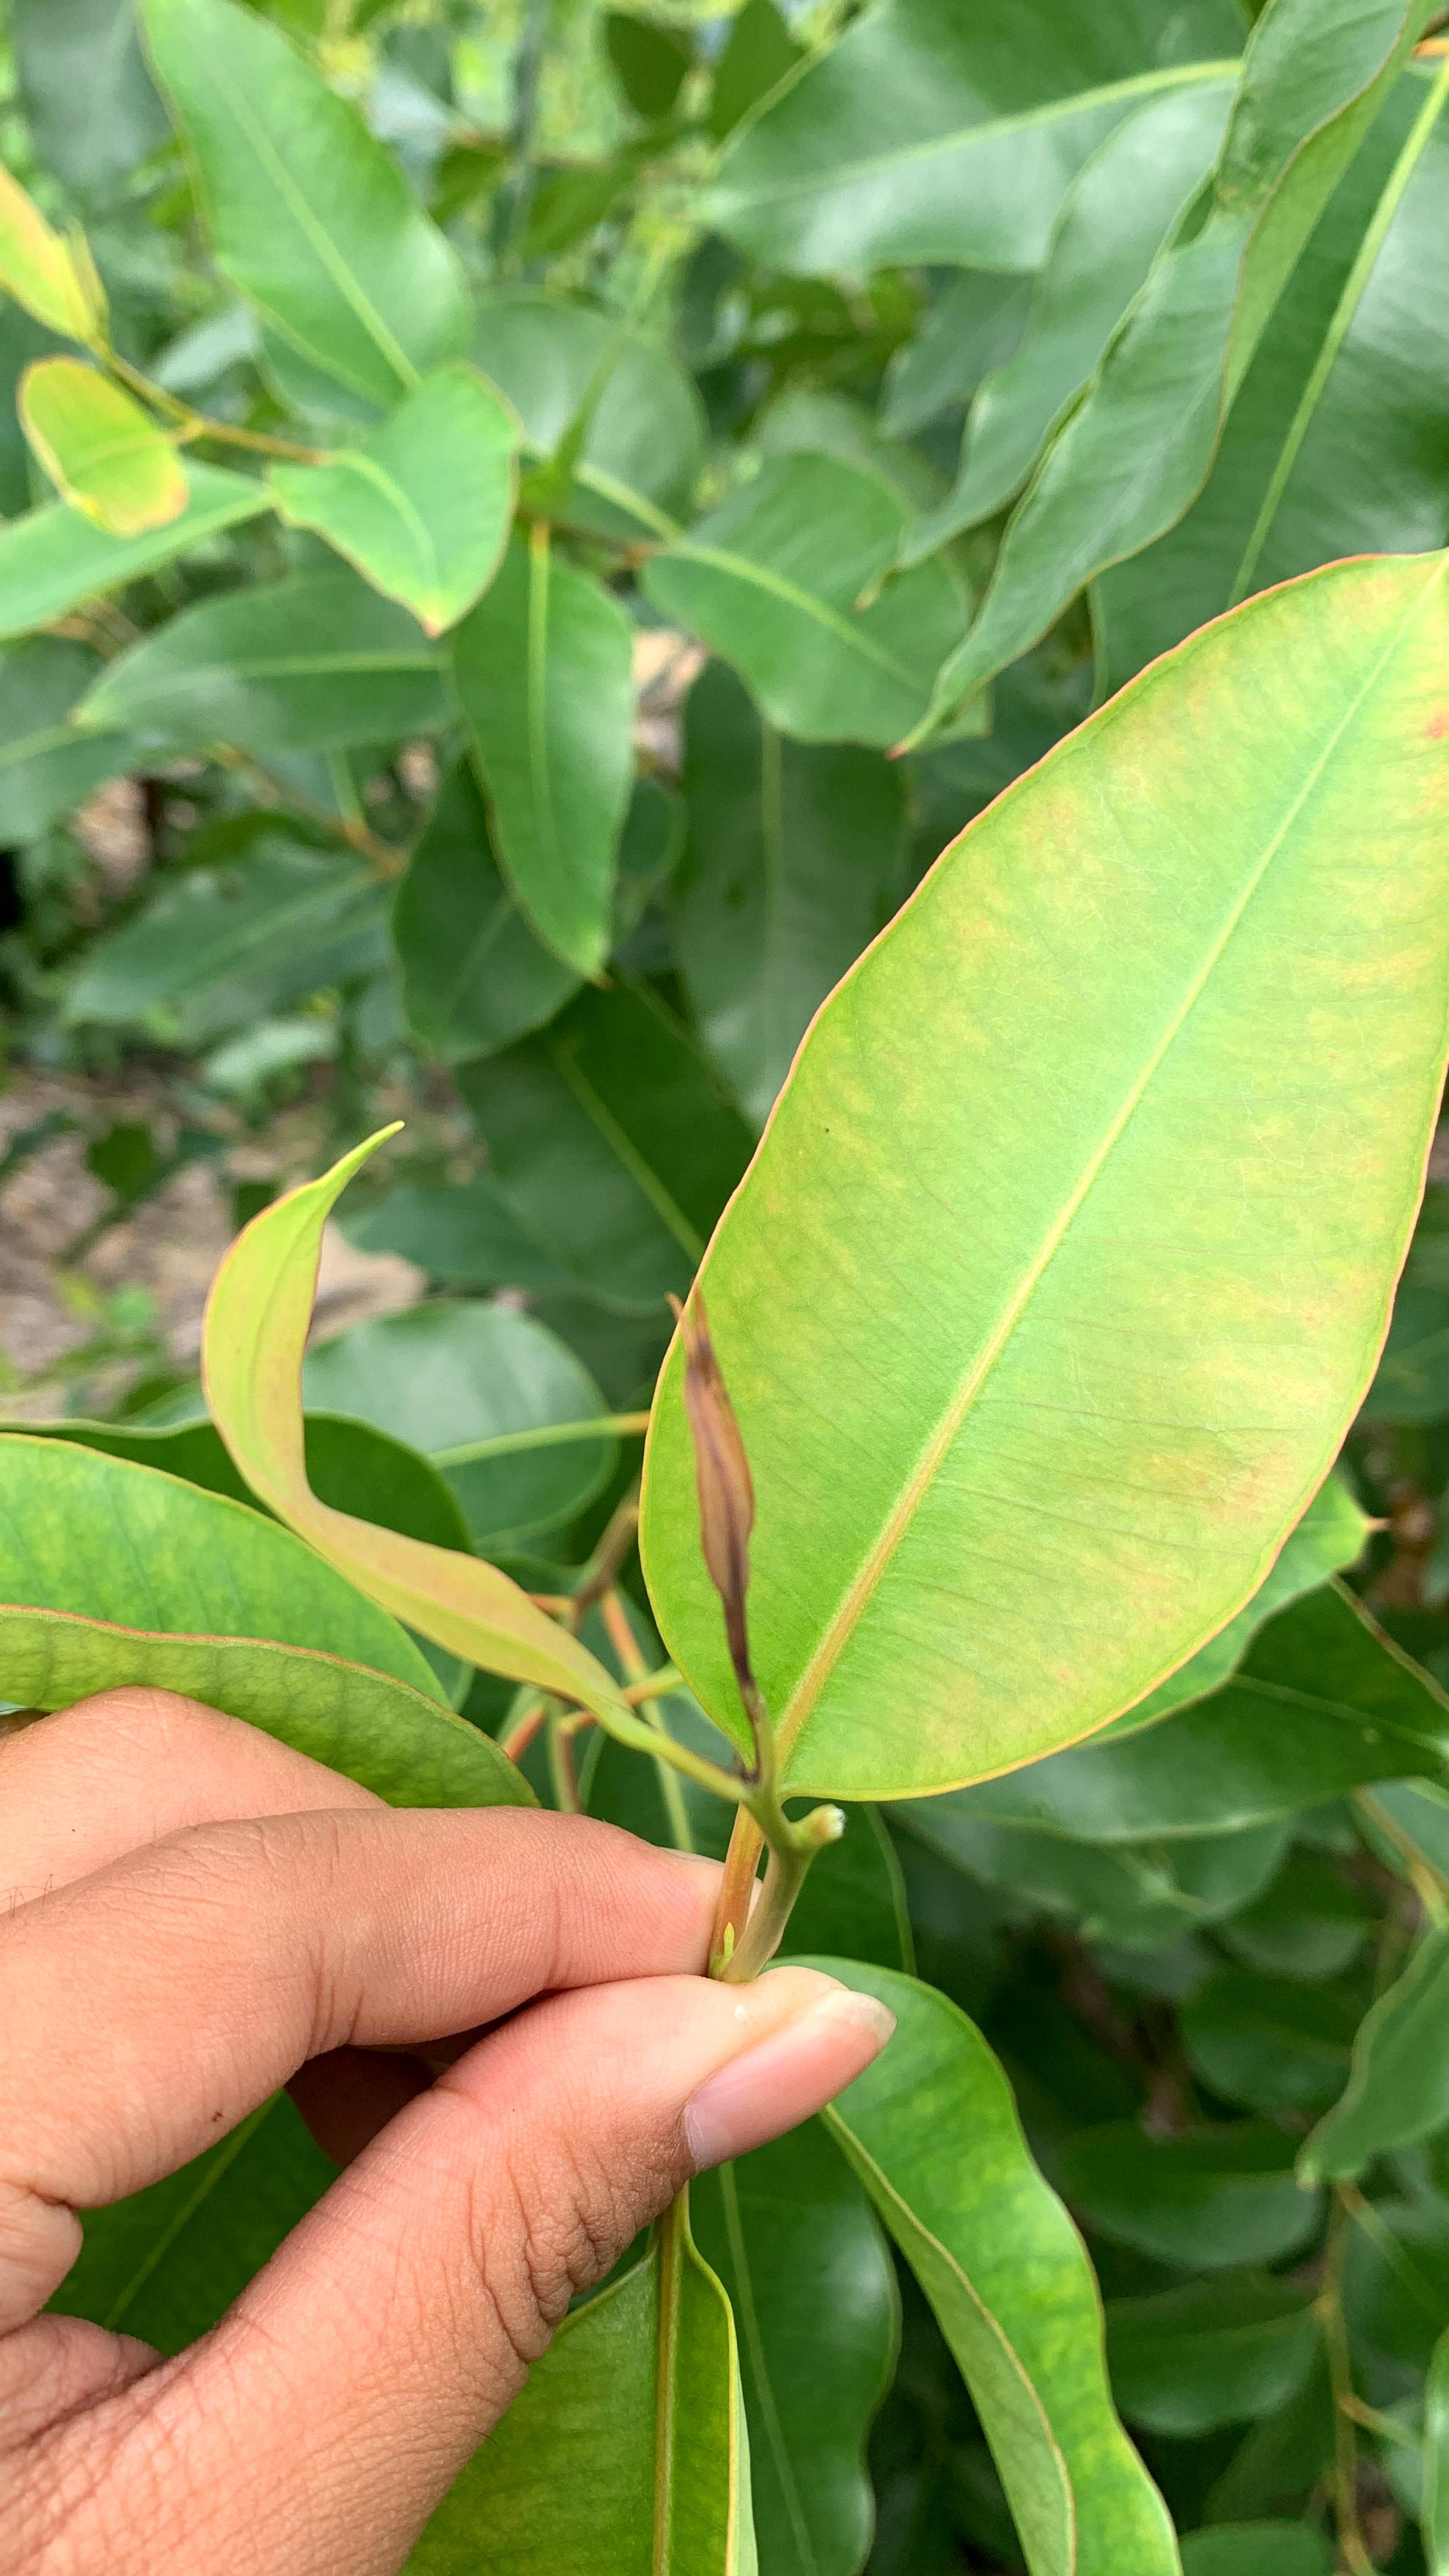Helopeltis-Withered Sprout: (623, 1224, 823, 1794)
